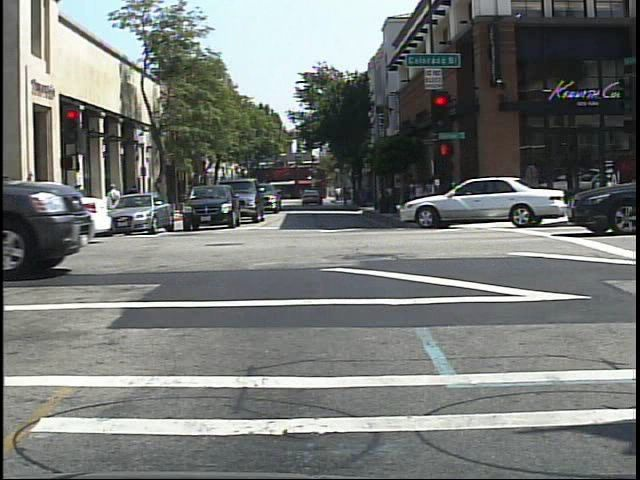person: (105, 180, 123, 223)
